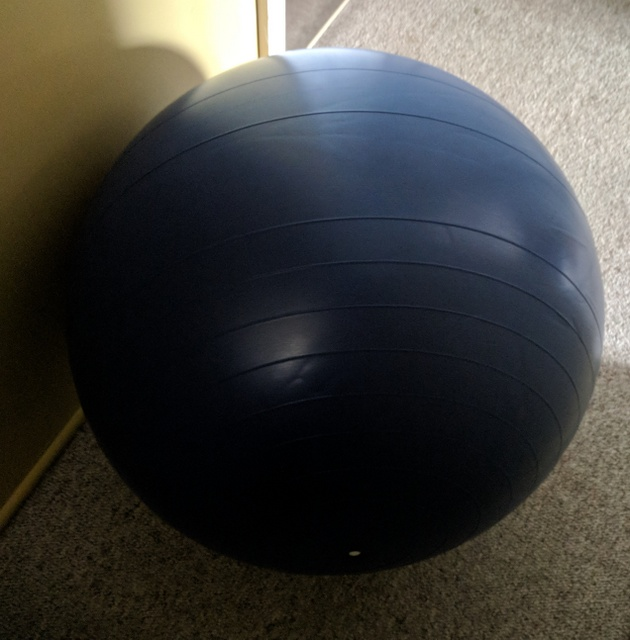ball: (75, 49, 611, 572)
